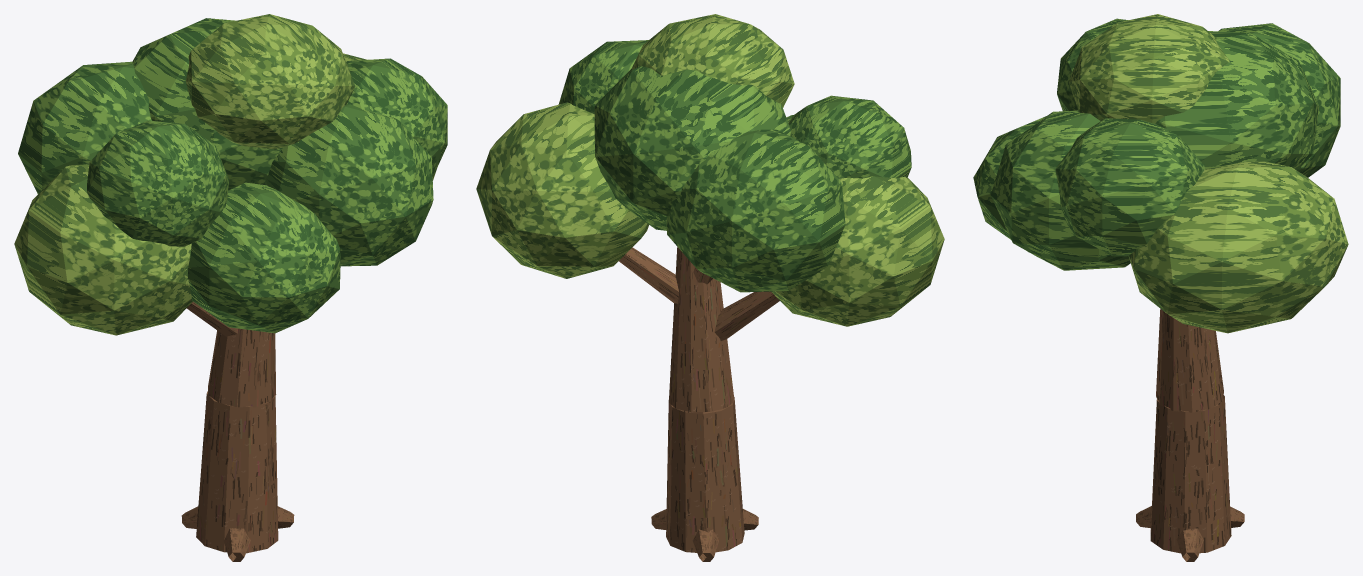
The model's file is Oak.obj.
3 views of the same model, side by side, from view 1: azimuth 30°, elevation 25°; view 2: azimuth 150°, elevation 25°; view 3: azimuth 270°, elevation 25° (orthographic). The views are drawn at different scales.
Parts seen in each view (by area): view 1: Oak_Oak_Leaves, Oak_Oak_Leaves_Light, Oak_Oak_Bark; view 2: Oak_Oak_Leaves, Oak_Oak_Leaves_Light, Oak_Oak_Bark; view 3: Oak_Oak_Leaves, Oak_Oak_Leaves_Light, Oak_Oak_Bark.
Boxes of the visible parts, bbox=[...] form: Oak_Oak_Leaves: bbox=[18, 18, 447, 333]; Oak_Oak_Leaves_Light: bbox=[14, 14, 436, 335]; Oak_Oak_Bark: bbox=[181, 301, 294, 561]; Oak_Oak_Leaves: bbox=[558, 40, 911, 292]; Oak_Oak_Leaves_Light: bbox=[476, 14, 944, 326]; Oak_Oak_Bark: bbox=[619, 247, 779, 561]; Oak_Oak_Leaves: bbox=[973, 18, 1340, 270]; Oak_Oak_Leaves_Light: bbox=[1068, 14, 1348, 333]; Oak_Oak_Bark: bbox=[1136, 309, 1244, 561].
Bounding box in the file's own units: 4.39 × 5.14 × 3.37.
Materials: 3 (3 with a texture image).
